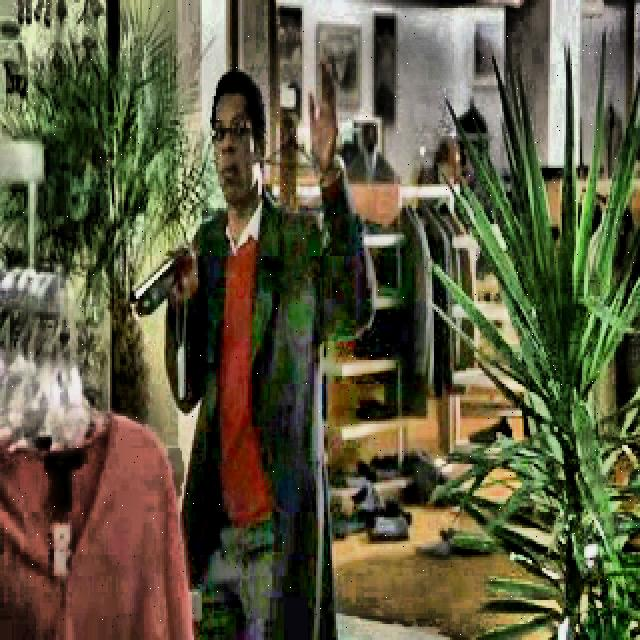L: (123, 53, 371, 635)
